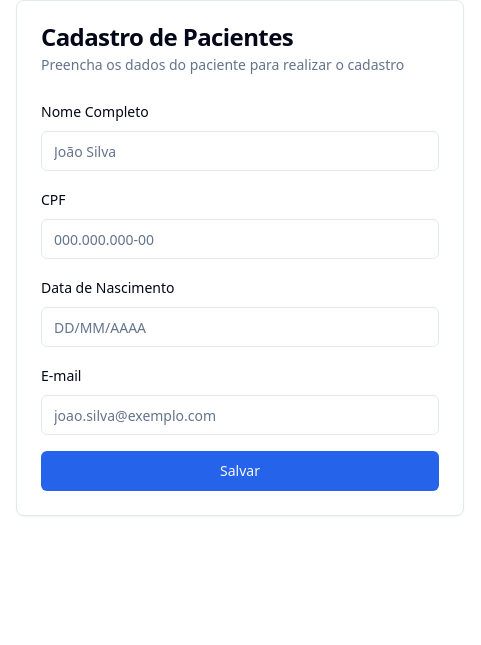
Test: PatientForm › deve exibir mensagens de erro quando tentar salvar com campos vazios
The width and height of the screenshot is (481, 645).
Step 1. Click the button "Salvar" → (240, 471), box [41,451,439,491]
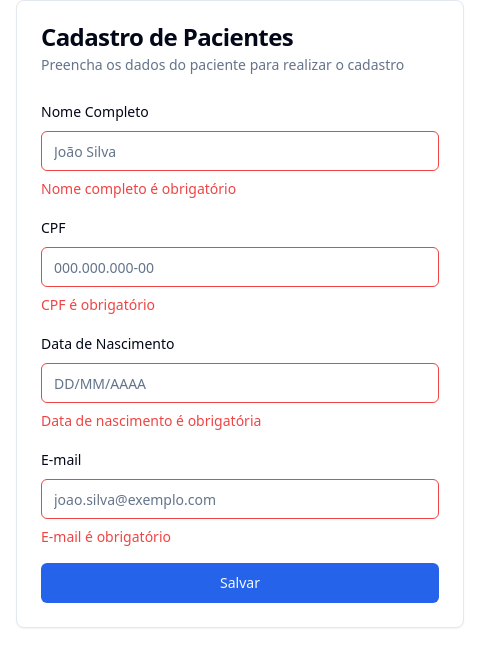
Expected: the text "Nome completo é obrigatório" is shown, [41,179,236,198]
Expected: the text "CPF é obrigatório" is shown, [41,295,155,314]
Expected: the text "Data de nascimento é obrigatória" is shown, [41,411,261,430]
